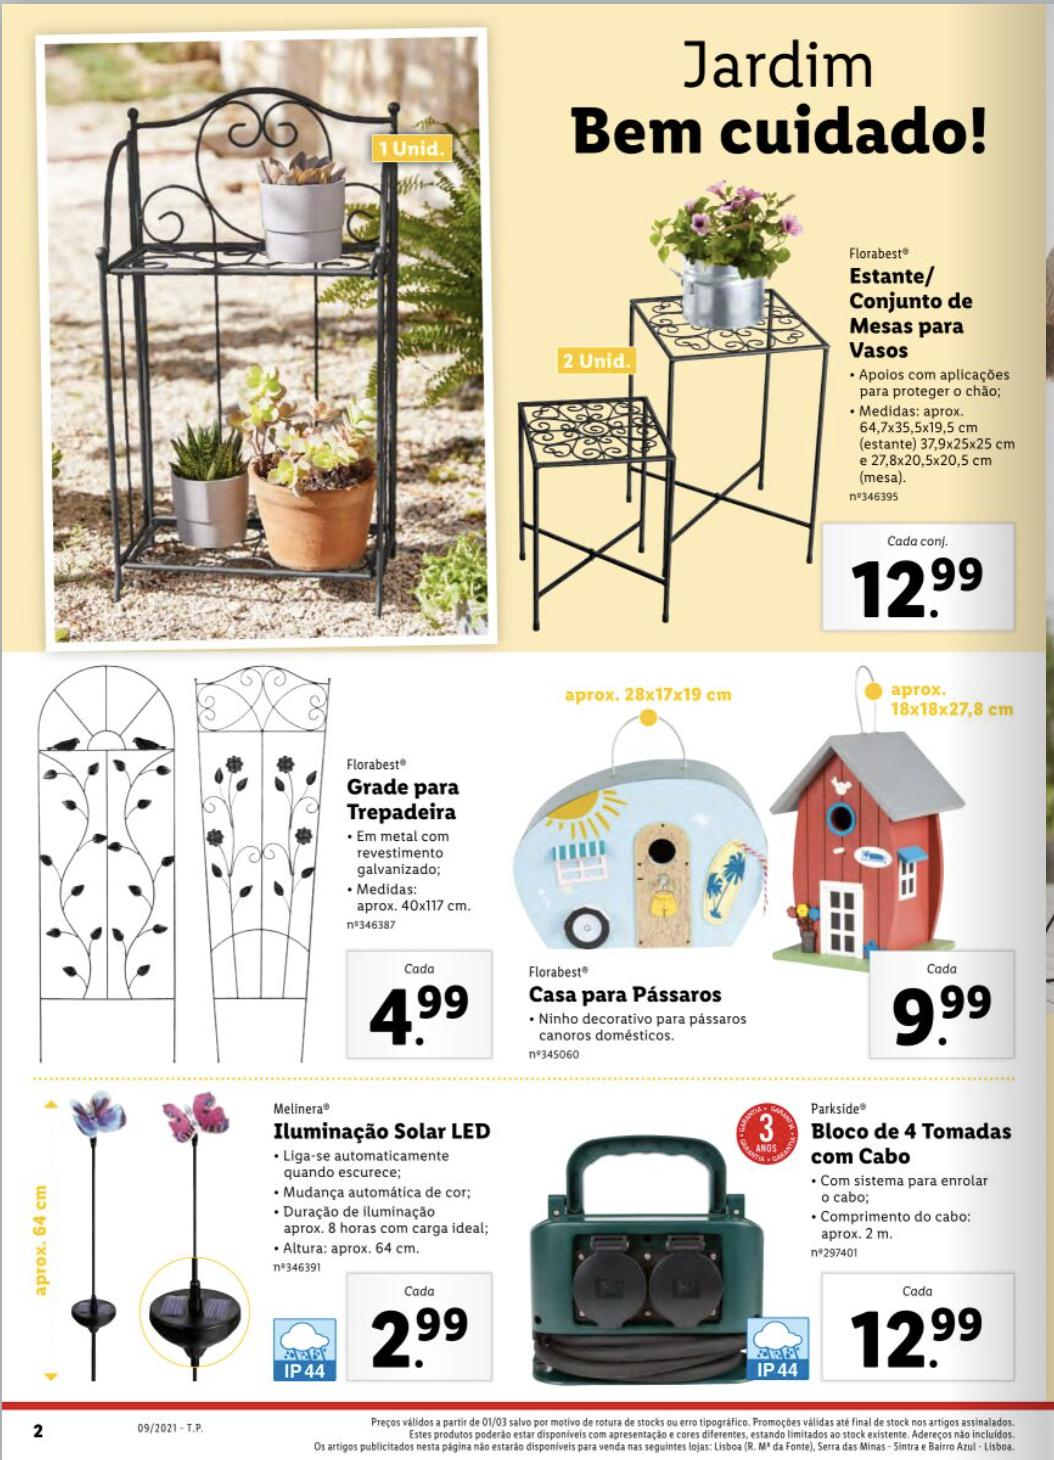name: (834, 262, 985, 367), (808, 1118, 1017, 1171), (337, 774, 468, 831), (267, 1117, 501, 1147), (525, 982, 725, 1015)
price: (847, 551, 992, 633), (845, 1302, 987, 1382), (885, 981, 1003, 1066), (362, 1298, 481, 1378), (363, 976, 470, 1058)
product: (505, 171, 1027, 647), (508, 671, 1028, 1073), (27, 657, 501, 1071), (532, 1093, 1032, 1397), (59, 1084, 508, 1389)
